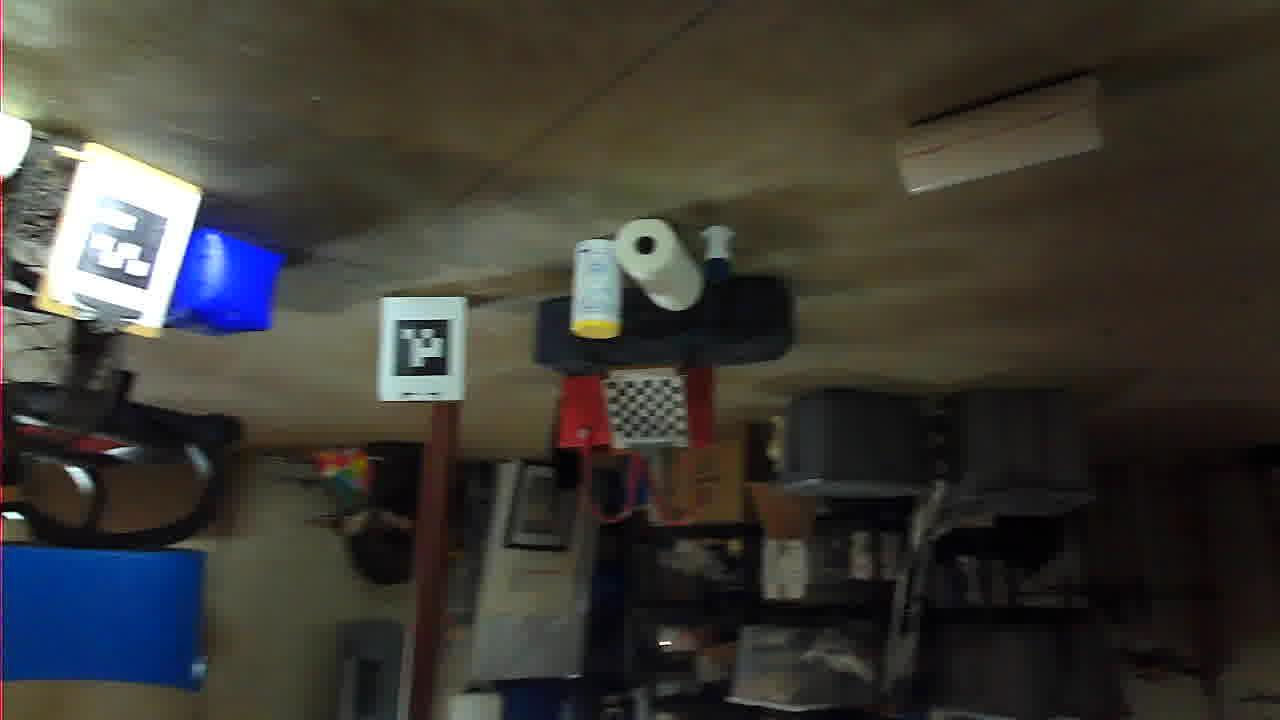coral: (185, 526, 386, 638)
